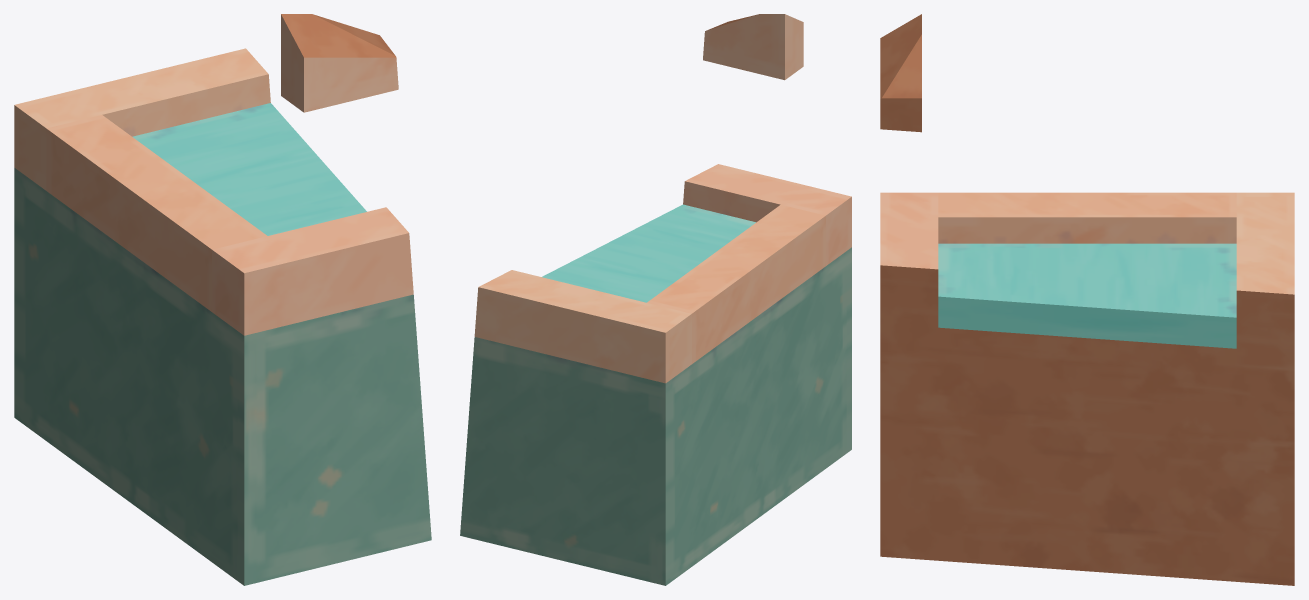
The model's file is spout_s03.fbx.
3 views of the same model, side by side, from view 1: azimuth 30°, elevation 25°; view 2: azimuth 150°, elevation 25°; view 3: azimuth 270°, elevation 25° (orthographic). The views are drawn at different scales.
Visible parts, largest first — view 1: spout_s03; view 2: spout_s03; view 3: spout_s03.
Boxes of the visible parts, x1,y1,x2,y2 form: spout_s03: (14, 14, 431, 585); spout_s03: (460, 14, 851, 585); spout_s03: (880, 14, 1294, 585).
Bounding box in the file's own units: 1.28 × 2.59 × 2.
